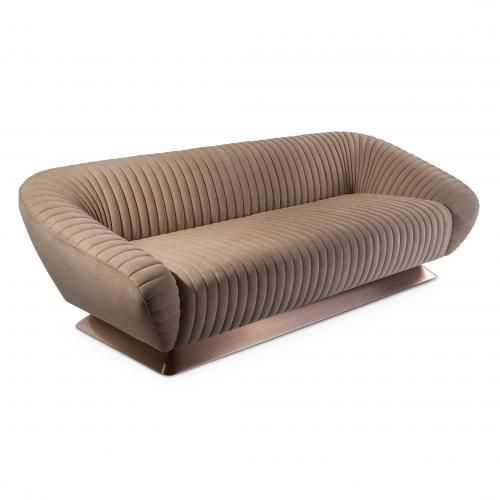3seatersofa: (20, 132, 478, 374)
backrest: (46, 130, 355, 238)
leftarmrest: (343, 133, 478, 254)
leg: (77, 266, 434, 374)
rightarmrest: (20, 174, 179, 349)
seat: (138, 194, 451, 344)
